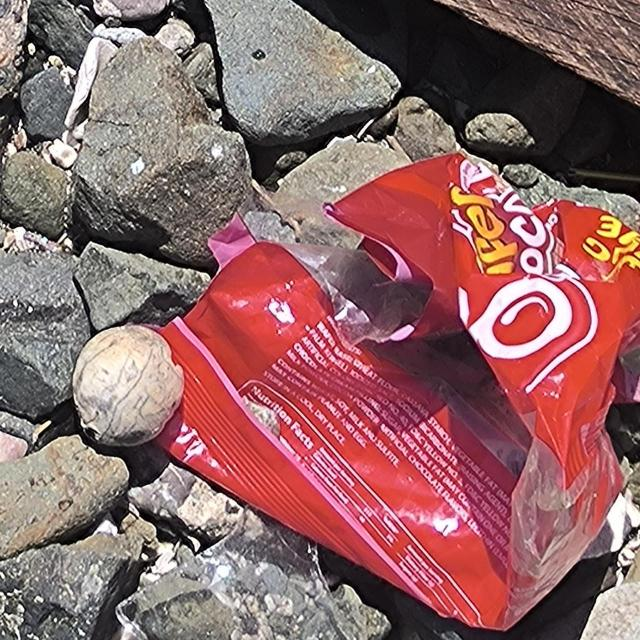litter: (134, 150, 640, 635)
